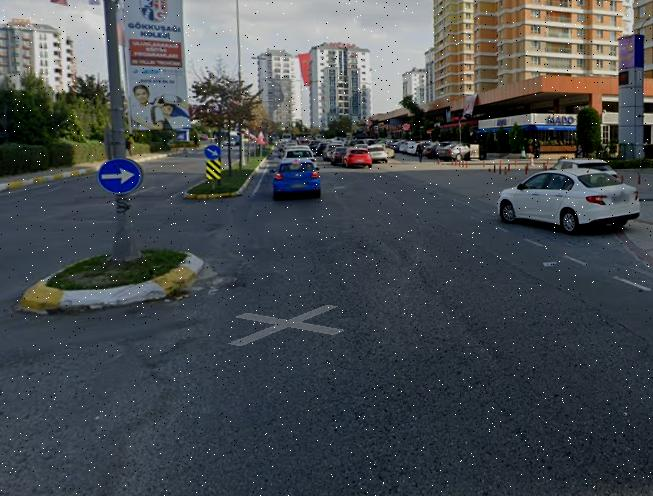turnright: (99, 159, 141, 193)
